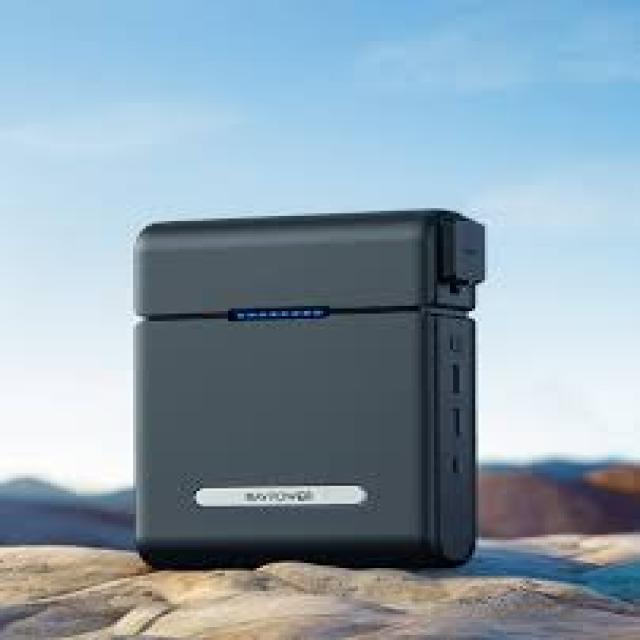portable-charger: (127, 209, 493, 571)
